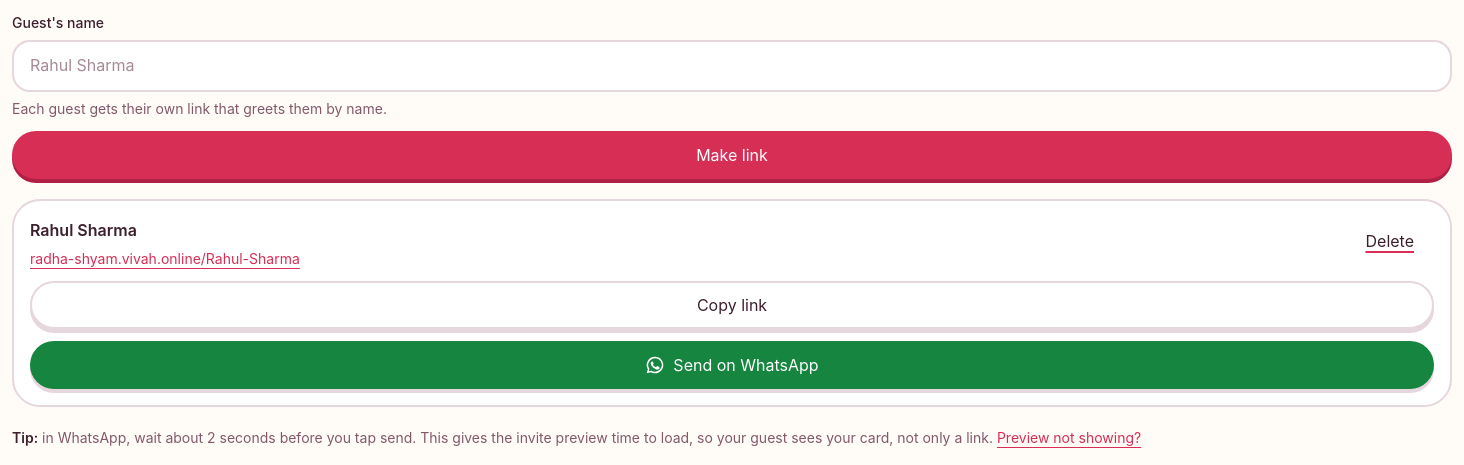
Test case: GuestLinks › shows the error the server sends back
Step 1. Click the button "Make link" → (732,155), box [12,131,1452,179]
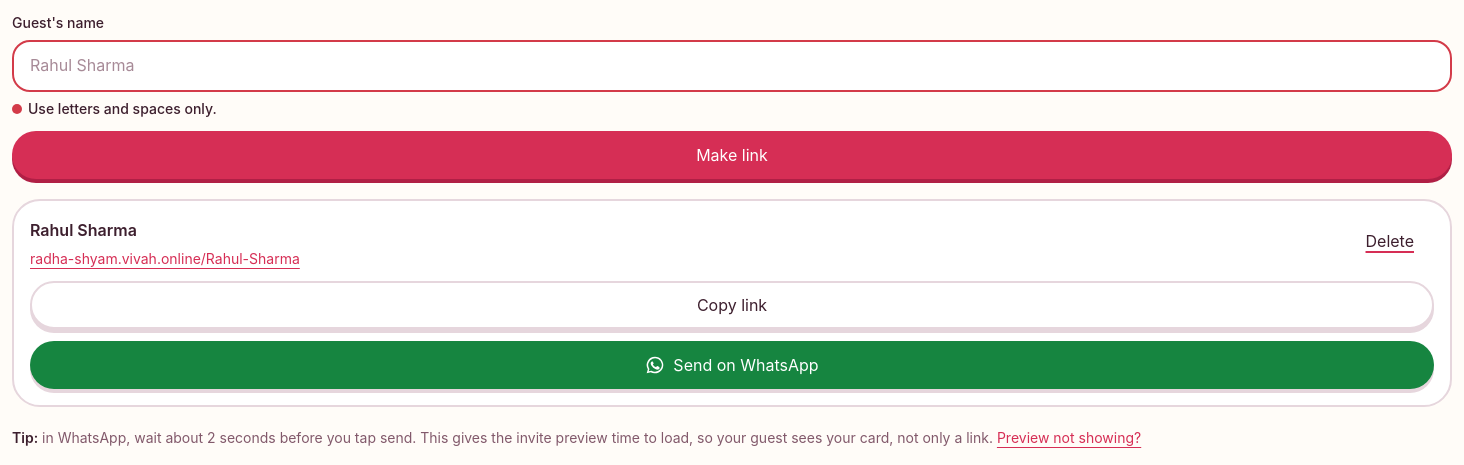
Result: the text "Use letters and spaces only." is shown at [12,100,217,117]
